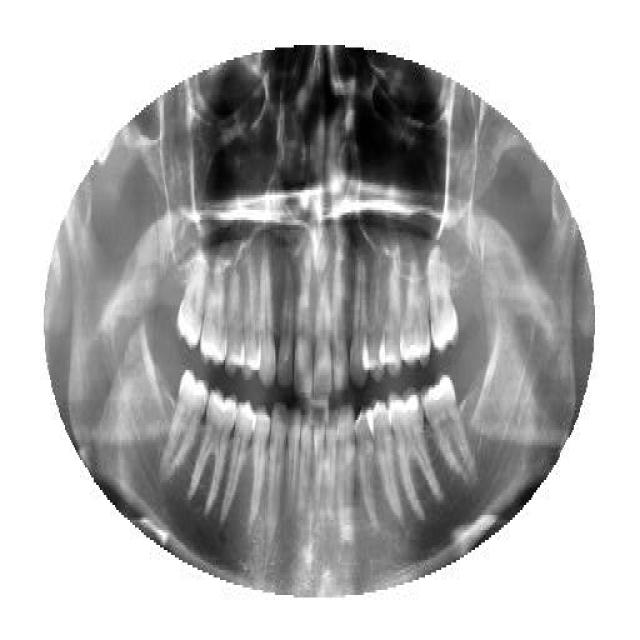Fillings: (388, 385, 443, 523)
